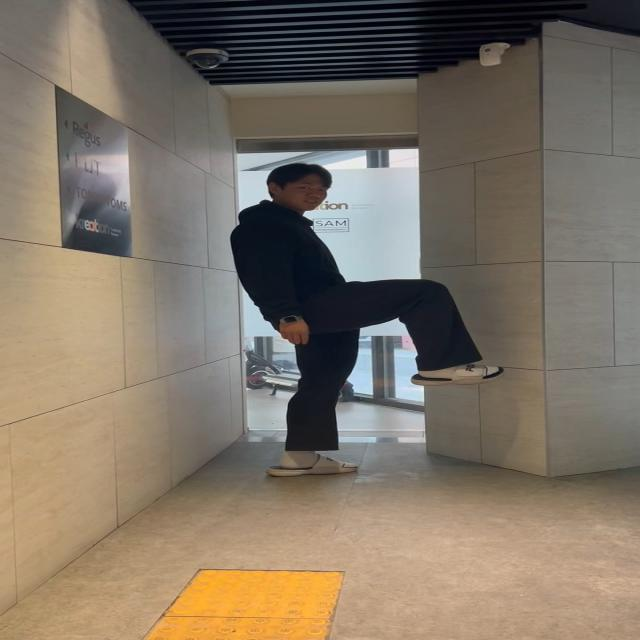knee: (334, 269, 502, 390)
